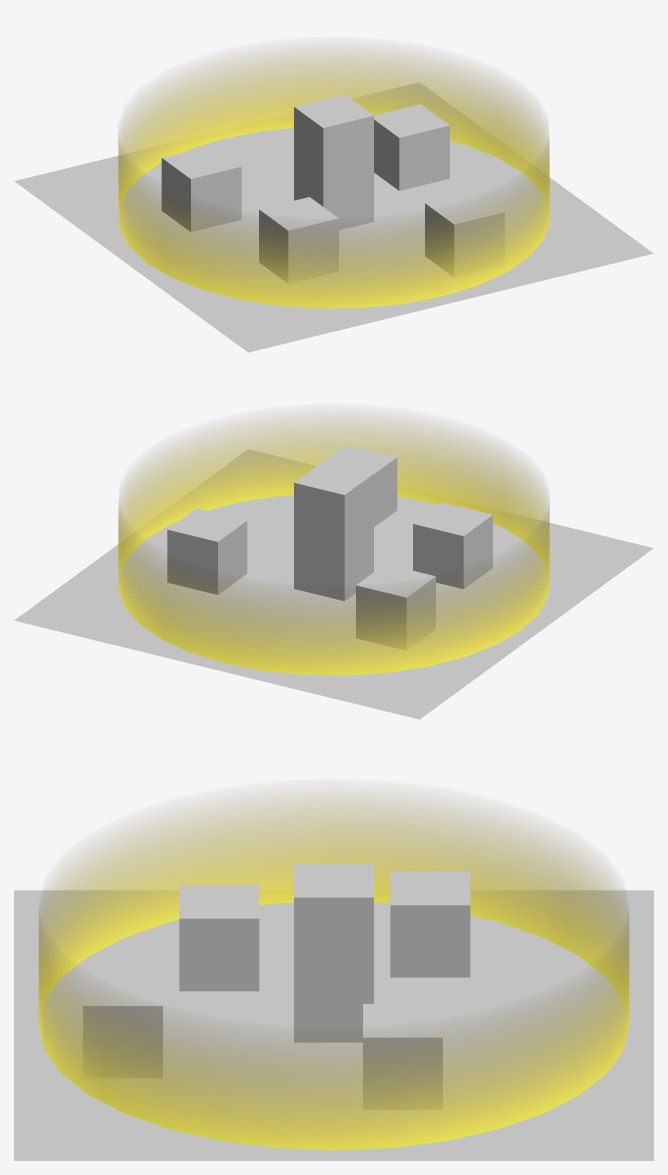
Rendered from texture_hover.glb.
3 renders of one model, top to bottom at view 1: azimuth 30°, elevation 25°; view 2: azimuth 150°, elevation 25°; view 3: azimuth 270°, elevation 25°, orthographic. The views are drawn at different scales.
Parts seen in each view (by area): view 1: Hover+Texture, Floor, building.002, building.003, building.001, building.004, building.005; view 2: Hover+Texture, Floor, building.002, building.005, building.003, building.001, building.004; view 3: Hover+Texture, Floor, building.002, building.003, building.001, building.005, building.004.
Part boxes in pixels (left/top/right/bottom): Hover+Texture: left=118, top=48, right=549, bottom=308; Floor: left=14, top=82, right=653, bottom=352; building.002: left=294, top=94, right=373, bottom=230; building.003: left=161, top=145, right=241, bottom=231; building.001: left=259, top=197, right=338, bottom=283; building.004: left=425, top=191, right=504, bottom=276; building.005: left=374, top=104, right=449, bottom=190; Hover+Texture: left=118, top=415, right=549, bottom=675; Floor: left=14, top=449, right=653, bottom=719; building.002: left=294, top=461, right=373, bottom=601; building.005: left=167, top=508, right=247, bottom=594; building.003: left=356, top=564, right=435, bottom=649; building.001: left=413, top=502, right=492, bottom=589; building.004: left=324, top=445, right=397, bottom=526; Hover+Texture: left=38, top=793, right=629, bottom=1150; Floor: left=14, top=890, right=653, bottom=1160; building.002: left=294, top=863, right=373, bottom=1042; building.003: left=390, top=871, right=470, bottom=977; building.001: left=179, top=885, right=259, bottom=991; building.005: left=363, top=1004, right=442, bottom=1109; building.004: left=83, top=972, right=162, bottom=1077.
Bounding box in the file's own units: 16 × 4.22 × 16.
1 material, 1 textured.
